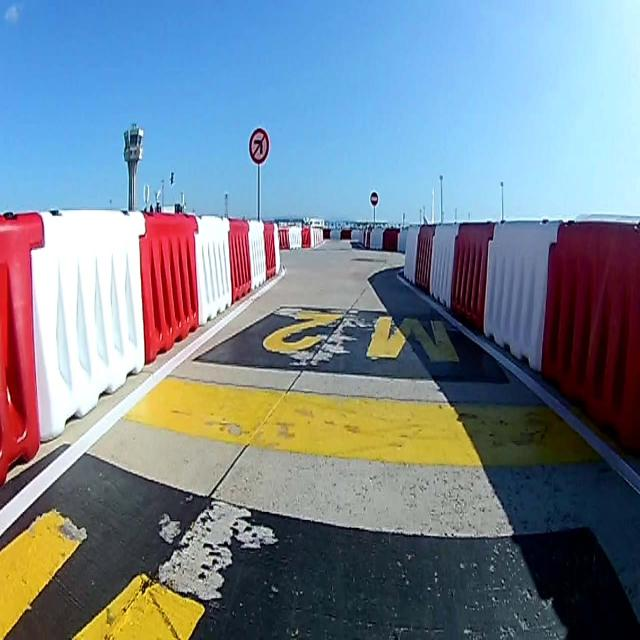soladonulmez: (250, 129, 268, 163)
